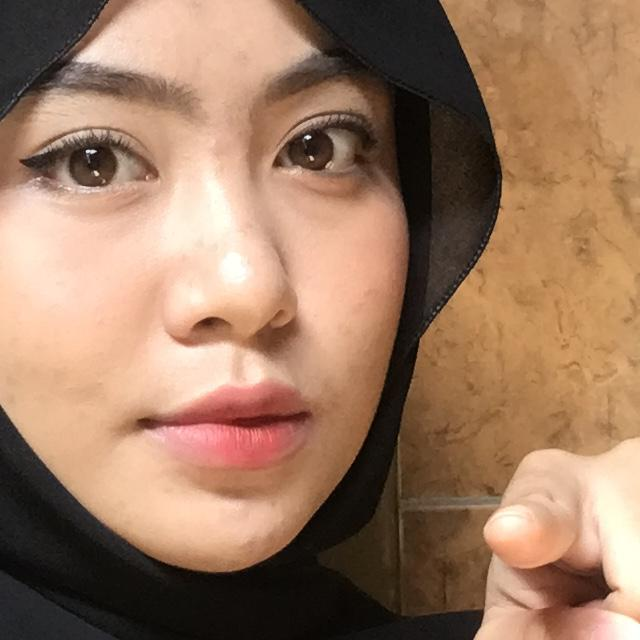kamu: (380, 356, 640, 640)
